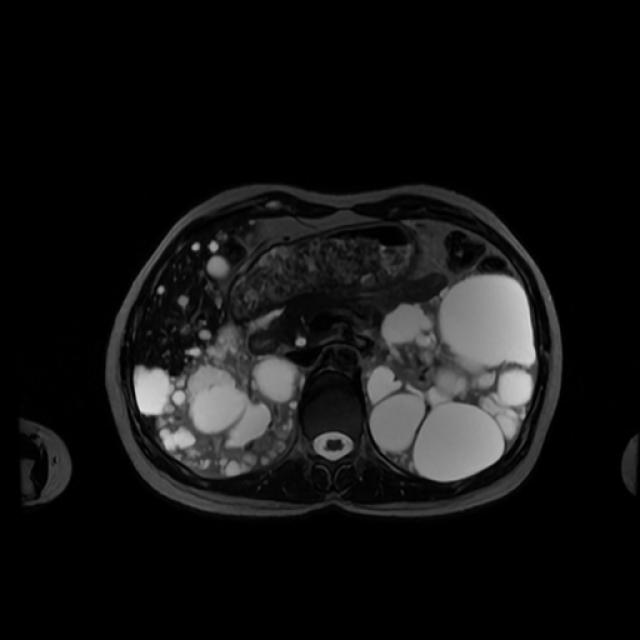sag: (162, 342, 307, 478)
sol: (362, 273, 540, 480)
